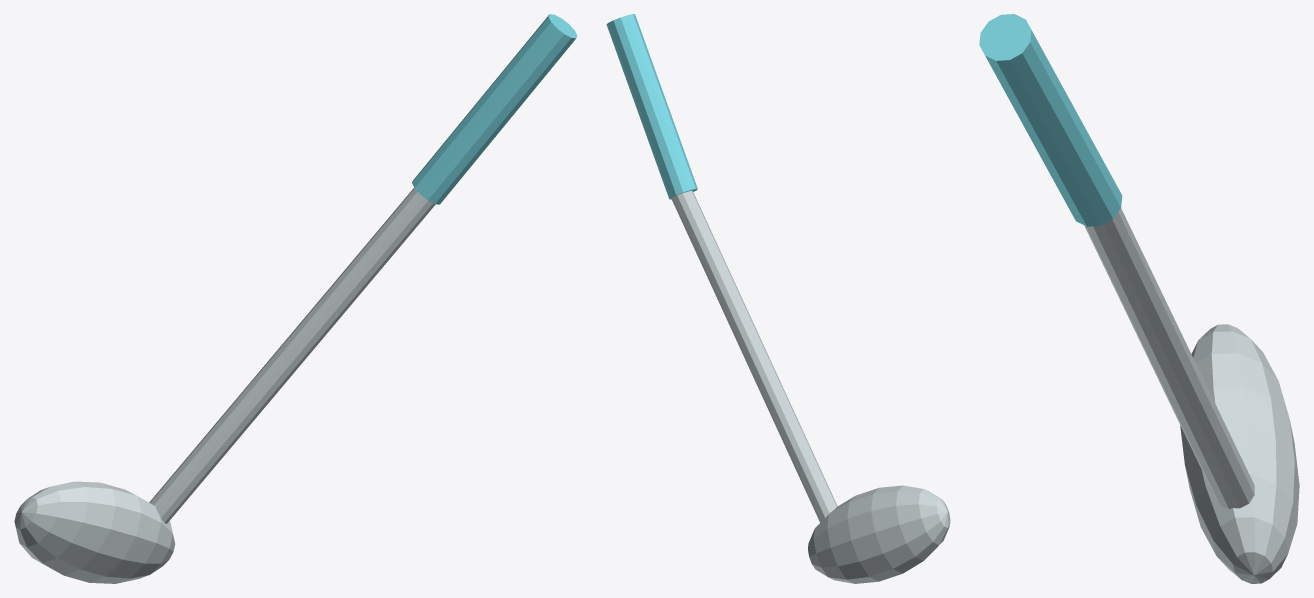
File: model-triangulated.obj
3 renders of one model, left to right at view 1: azimuth 30°, elevation 25°; view 2: azimuth 150°, elevation 25°; view 3: azimuth 270°, elevation 25°, orthographic. The views are drawn at different scales.
Visible parts, largest first — view 1: group606337349, group371793907, group565866627; view 2: group606337349, group371793907, group565866627; view 3: group606337349, group371793907, group565866627.
Part boxes in pixels (left/top/right/bottom): group606337349: left=14, top=481, right=175, bottom=583; group371793907: left=149, top=188, right=435, bottom=523; group565866627: left=412, top=14, right=577, bottom=204; group606337349: left=808, top=485, right=950, bottom=583; group371793907: left=671, top=190, right=837, bottom=522; group565866627: left=606, top=14, right=697, bottom=199; group606337349: left=1180, top=324, right=1299, bottom=583; group371793907: left=1084, top=208, right=1254, bottom=508; group565866627: left=979, top=14, right=1122, bottom=226.
Size of the model in its own units: 0.761 by 0.809 by 0.2916.
